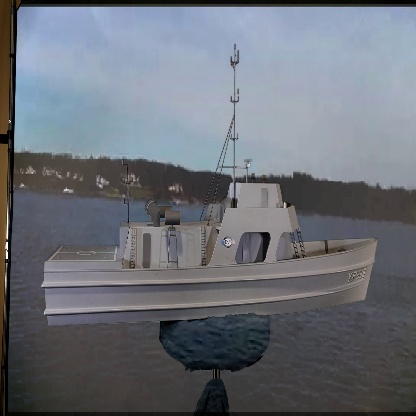YP689: (38, 35, 378, 330)
